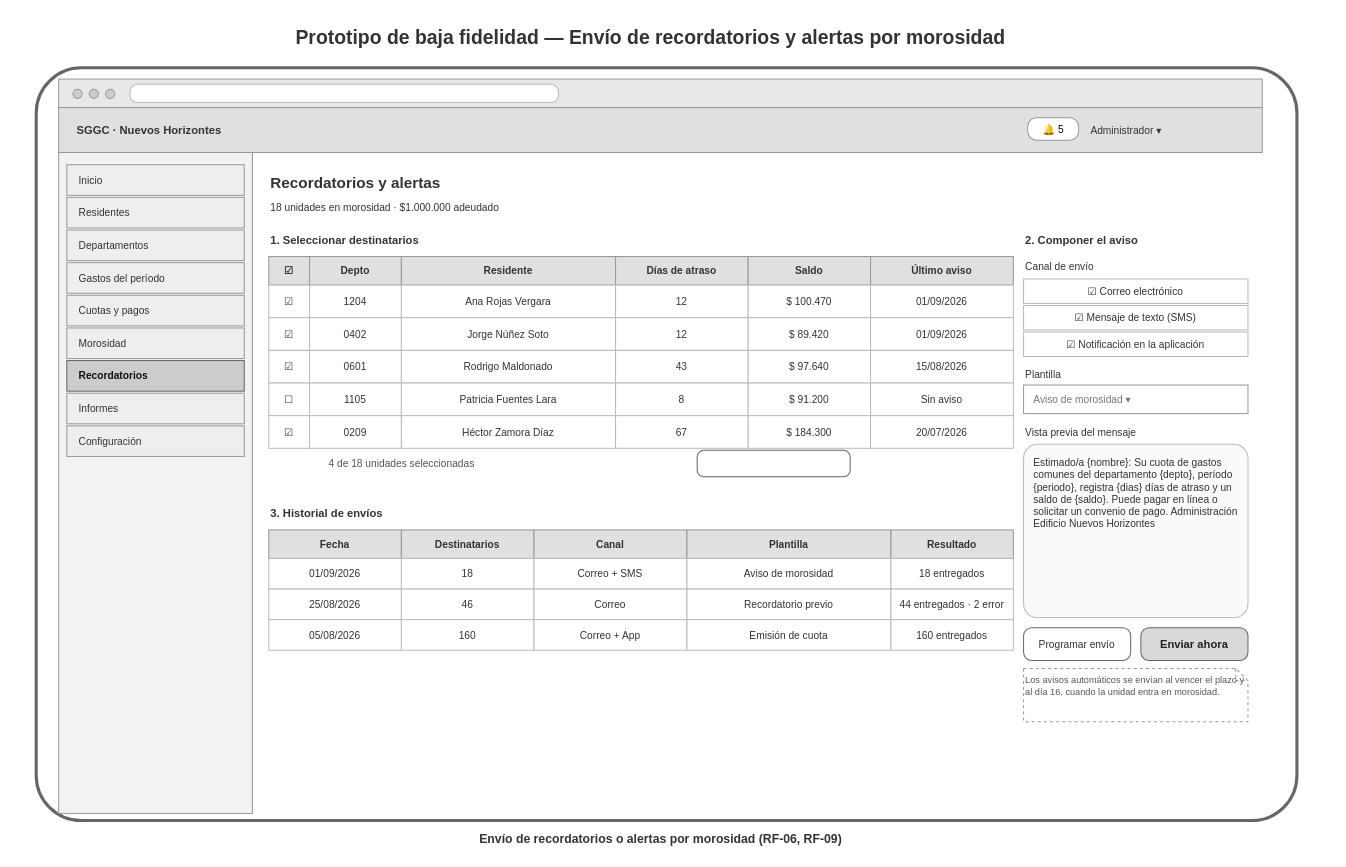
This 1346x867 diagram has some shape labels left out. The centre of each missing label's shape, as x and y in pixels:
Seleccionar todas: the point at 773,463
sggc.nuevoshorizontes.cl/recordatorios: the point at 343,93
